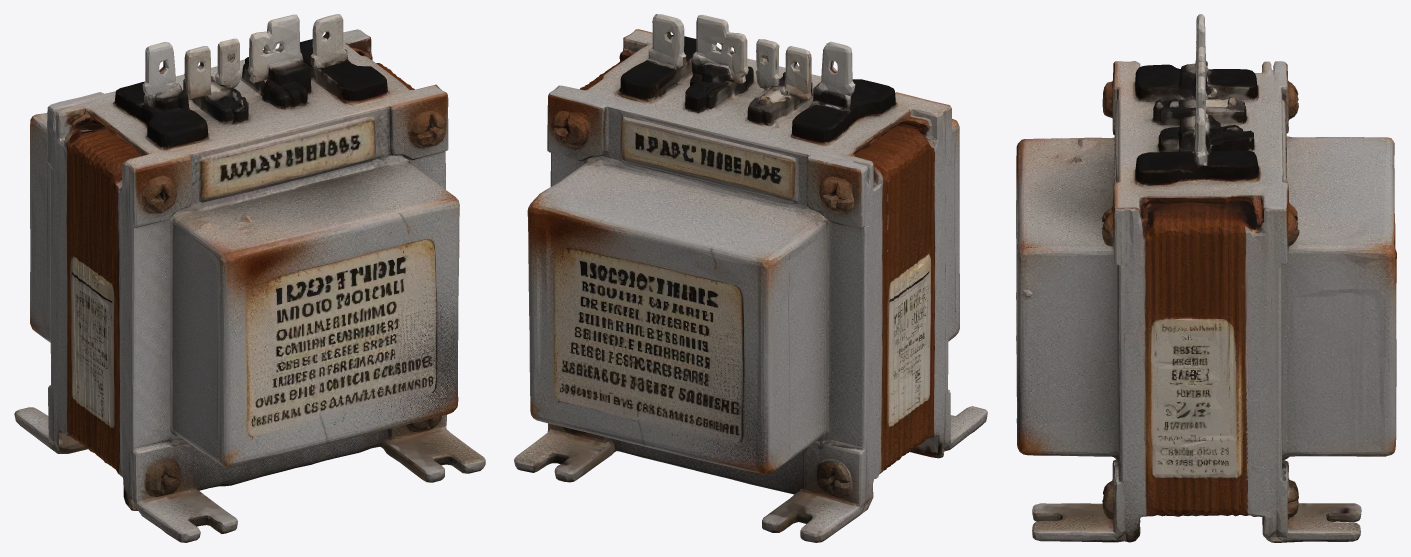
File: tail (312).glb
3 views of the same model, side by side, from view 1: azimuth 30°, elevation 25°; view 2: azimuth 150°, elevation 25°; view 3: azimuth 270°, elevation 25° (orthographic). The views are drawn at different scales.
Parts seen in each view (by area): view 1: Hy21_Mesh.obj; view 2: Hy21_Mesh.obj; view 3: Hy21_Mesh.obj.
Boxes of the visible parts, x1,y1,x2,y2 form: Hy21_Mesh.obj: (14,14,485,542); Hy21_Mesh.obj: (514,14,987,542); Hy21_Mesh.obj: (1016,14,1396,542).
Size of the model in its own units: 1.54 by 1.96 by 1.65.
Materials: 1 (1 with a texture image).
